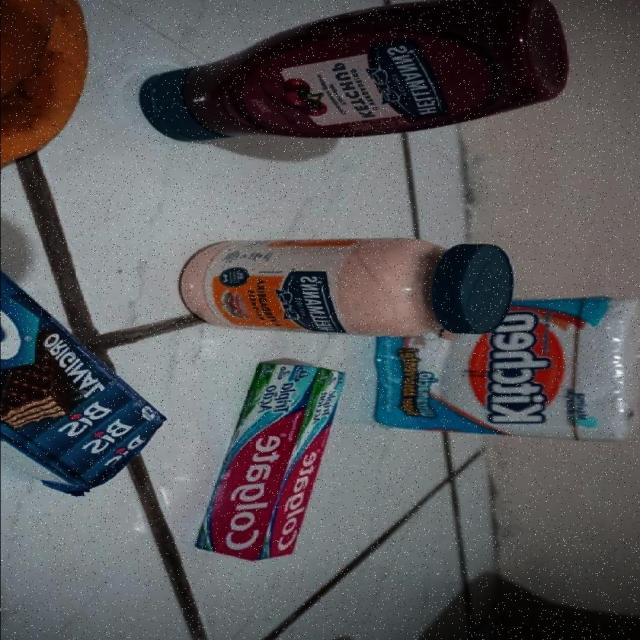Banana: (0, 0, 90, 175)
Ketchup: (138, 0, 570, 140)
Mayonnaise: (178, 238, 512, 336)
Napkin: (375, 295, 640, 442)
Toothpaste: (194, 362, 345, 559)
